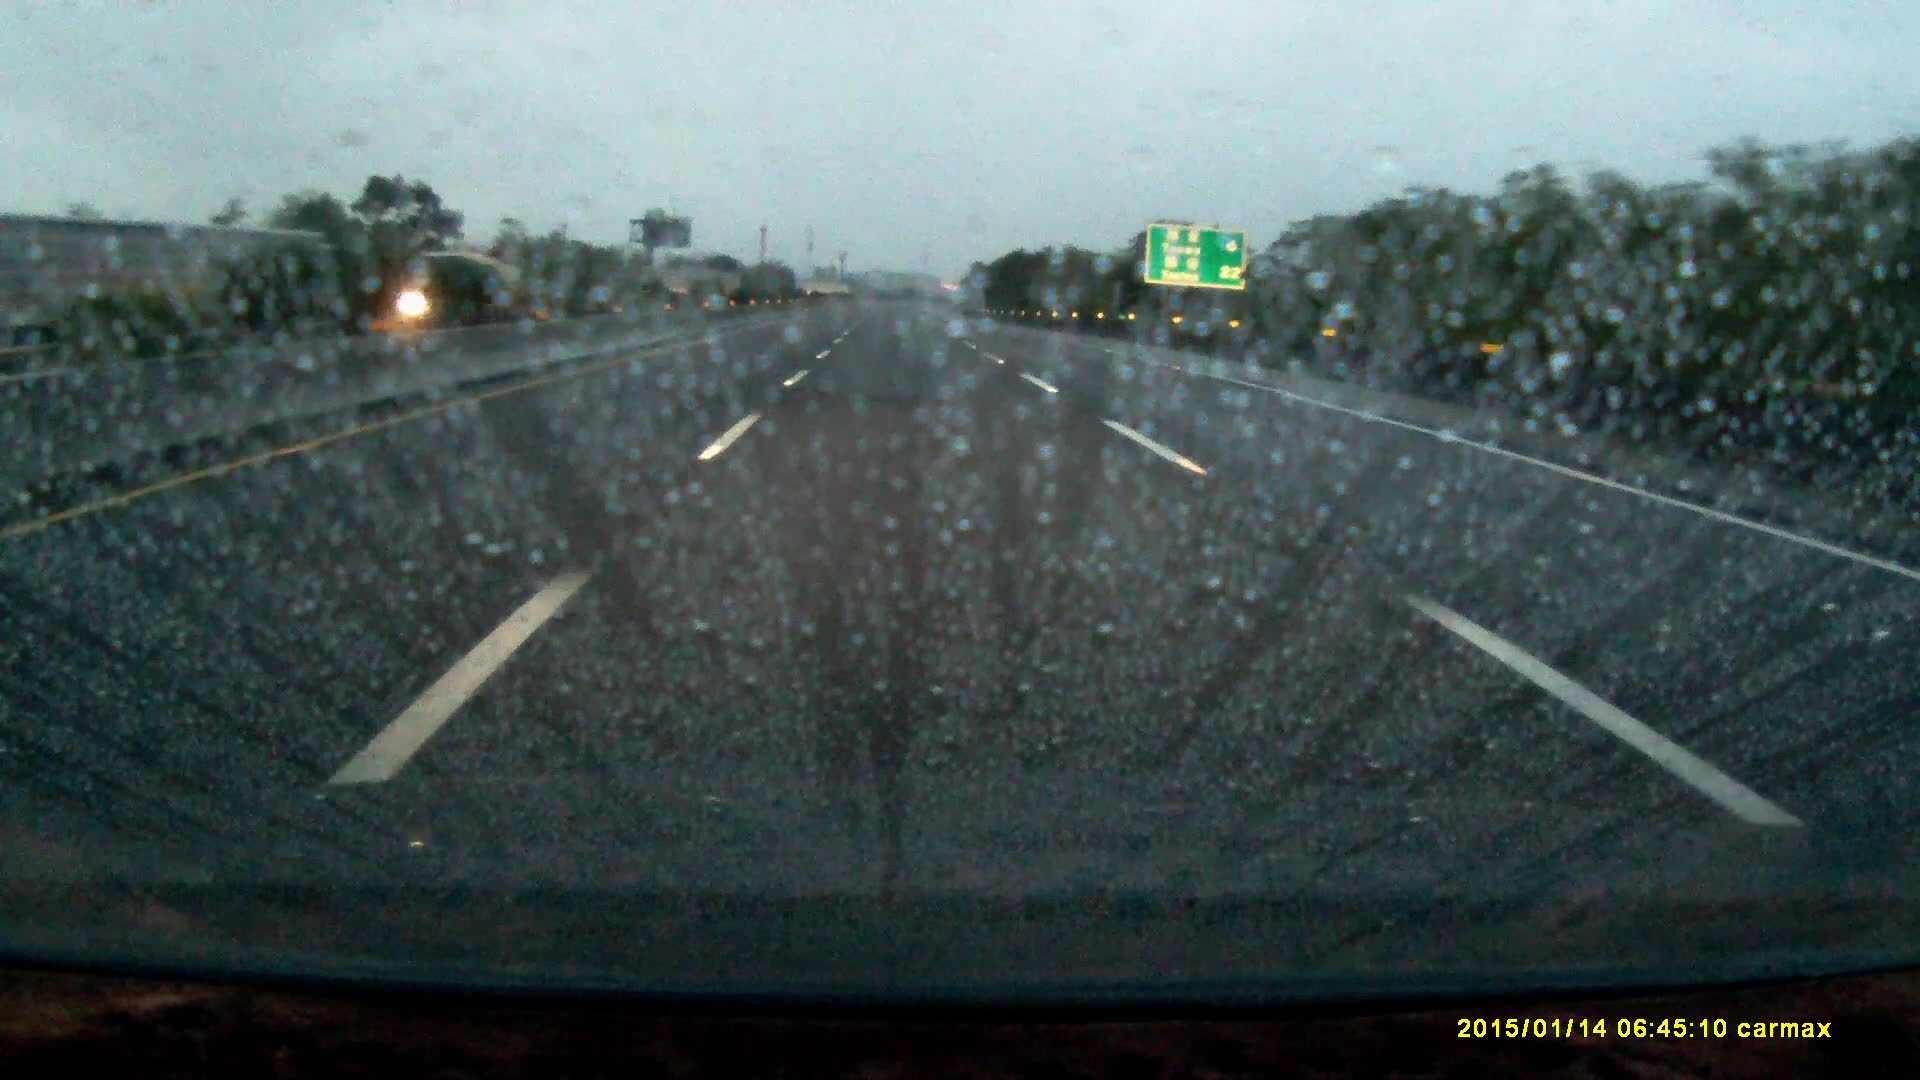vehicle: (405, 252, 527, 318)
